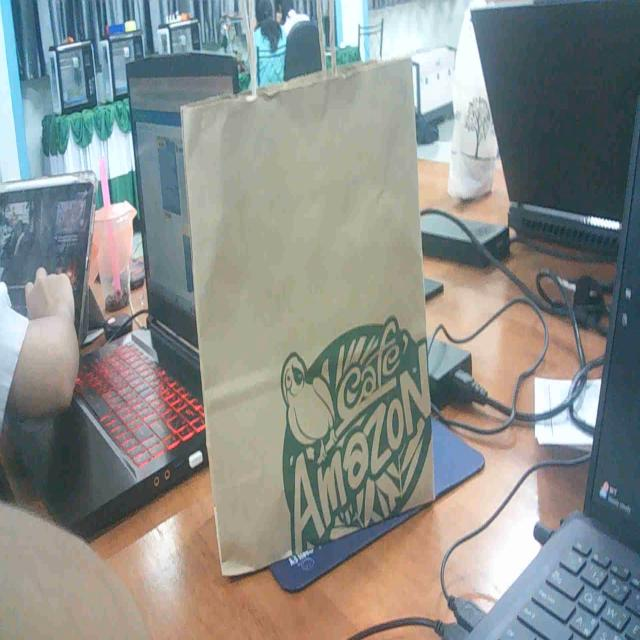bag: (188, 70, 436, 562)
